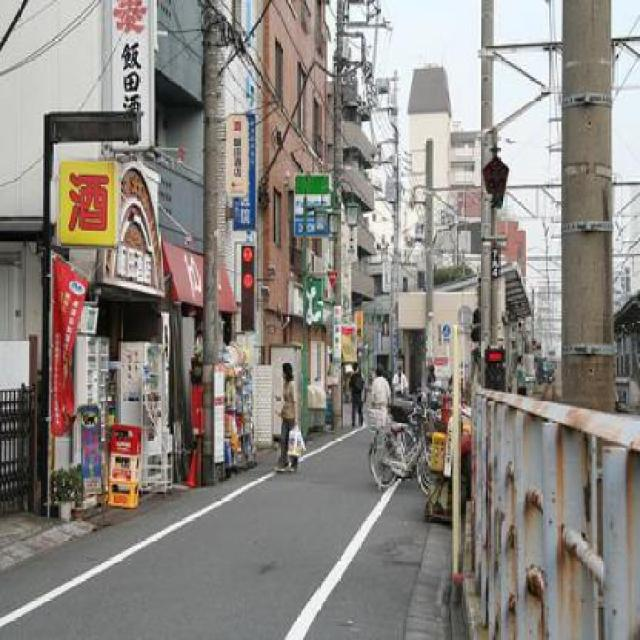Person: (274, 358, 295, 470), (368, 359, 390, 415), (348, 359, 364, 427), (513, 352, 529, 394), (390, 361, 407, 394), (423, 362, 434, 380)
